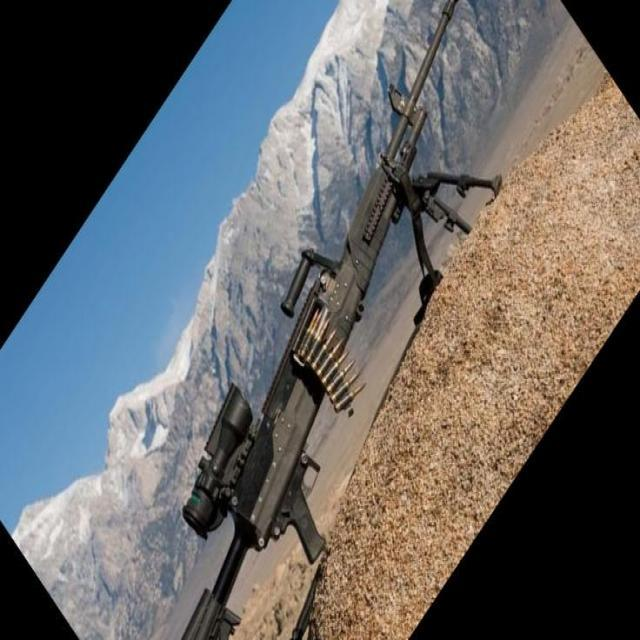weapon: (180, 0, 504, 640)
